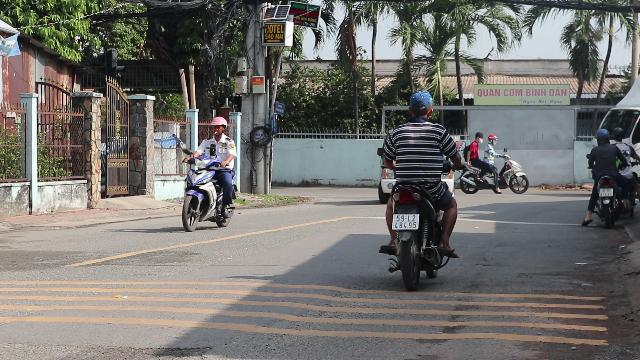helmet: (208, 115, 226, 136), (596, 130, 610, 144)
licenseplate: (392, 214, 418, 229), (599, 188, 613, 196)
motorcyclist: (373, 88, 463, 284), (178, 114, 238, 232), (582, 126, 638, 228)
nohelmet: (406, 90, 434, 120)
